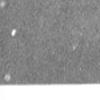white: (3, 73, 13, 83), (11, 29, 16, 39), (1, 0, 6, 8)
